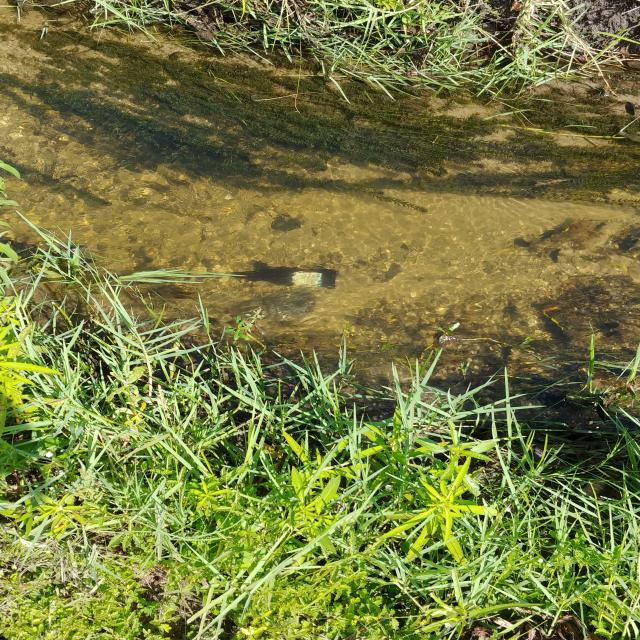litter: (208, 252, 348, 300)
